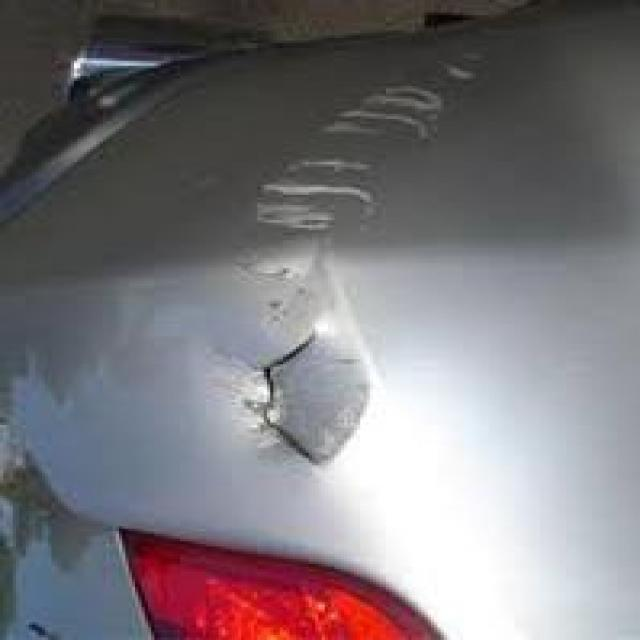scratch: (196, 43, 531, 309)
